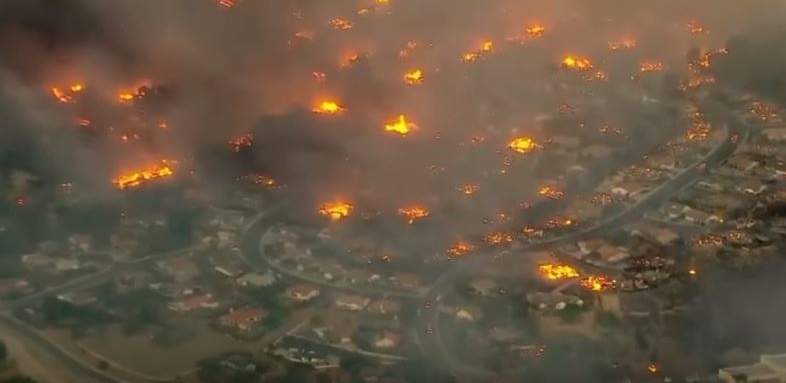山火: (675, 46, 728, 91), (110, 159, 181, 190), (557, 54, 609, 83), (384, 114, 421, 139), (316, 198, 354, 221), (460, 40, 494, 64), (685, 110, 711, 140), (500, 135, 543, 153), (537, 260, 579, 278), (581, 270, 616, 291), (231, 171, 278, 186), (396, 205, 430, 225), (631, 61, 665, 80), (696, 231, 741, 245), (312, 101, 349, 116), (746, 100, 775, 119), (605, 37, 640, 52), (227, 132, 253, 152), (481, 230, 513, 246), (445, 240, 476, 256), (589, 191, 616, 208), (544, 213, 574, 228), (599, 123, 627, 139), (50, 86, 72, 105), (397, 39, 420, 57), (401, 69, 425, 86), (521, 223, 543, 241), (120, 87, 147, 101), (538, 185, 563, 200), (687, 20, 711, 35), (453, 182, 481, 194), (327, 17, 351, 31), (525, 22, 545, 38), (292, 28, 316, 41), (339, 53, 357, 69), (309, 69, 331, 81), (557, 103, 577, 114), (216, 0, 234, 8), (76, 118, 89, 128), (494, 211, 508, 220), (516, 199, 529, 208), (69, 83, 81, 92), (471, 135, 484, 143), (647, 362, 657, 372), (380, 253, 391, 261), (503, 156, 512, 165), (158, 120, 166, 128), (543, 135, 552, 142), (377, 0, 388, 5), (688, 267, 696, 273), (121, 133, 126, 141)
烟雾: (0, 0, 785, 382)
